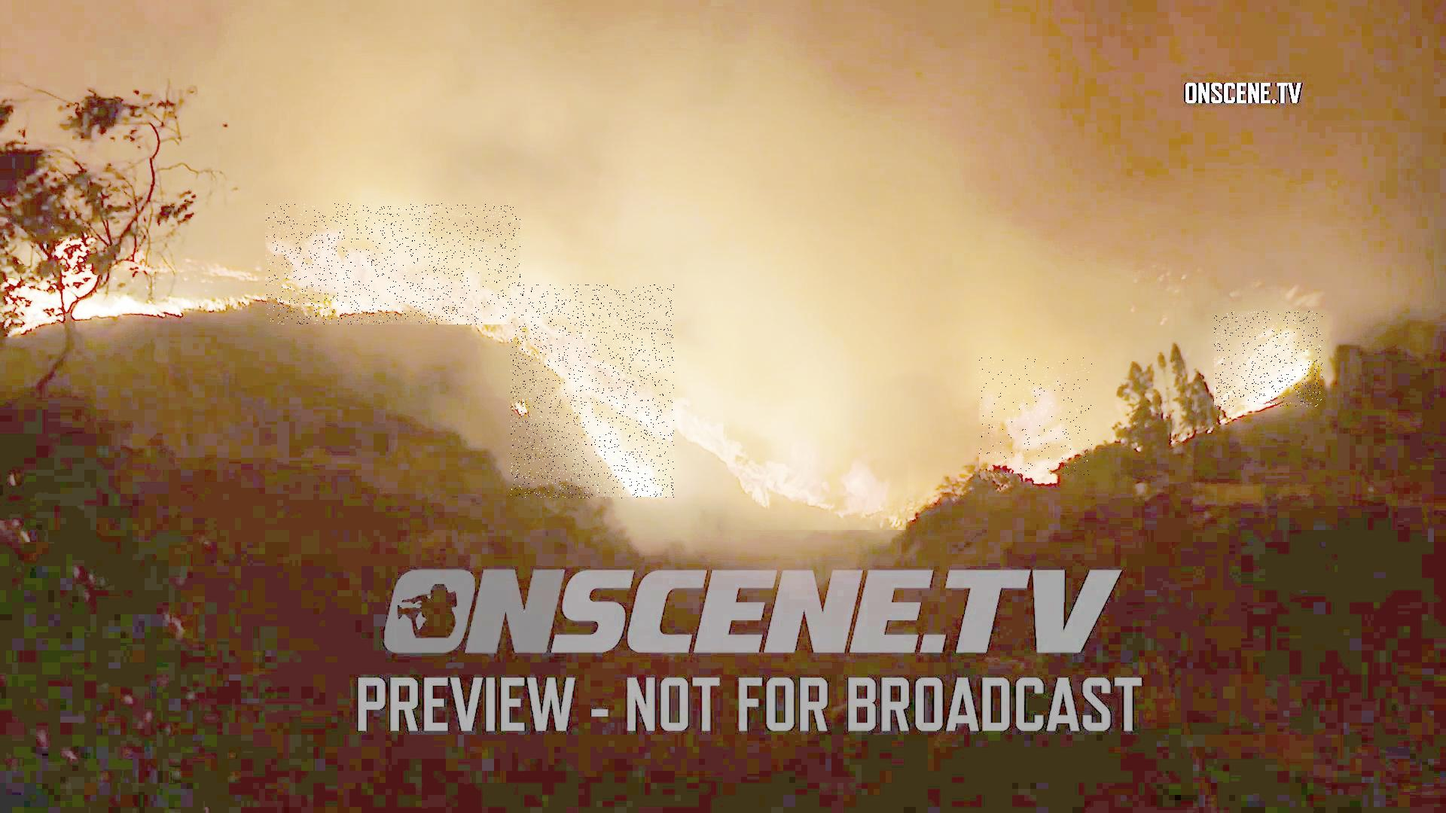fire: (511, 285, 675, 499), (266, 203, 520, 324), (727, 409, 912, 530), (980, 358, 1093, 476), (1215, 311, 1323, 407)
